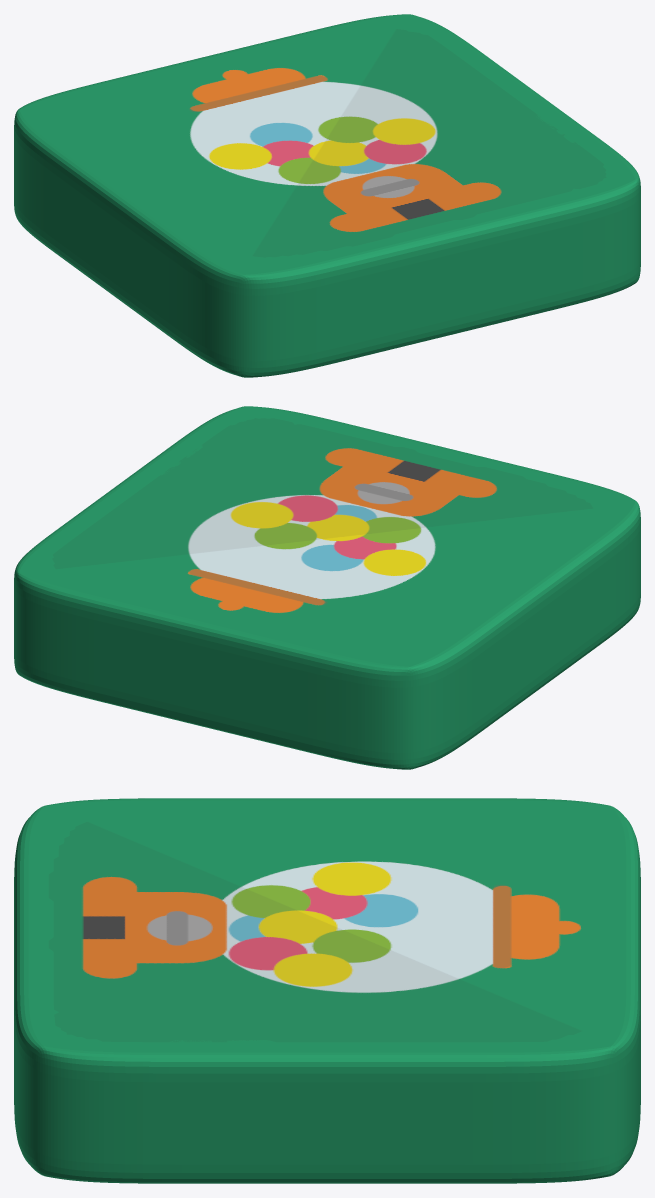
Rendered from BubbleGum_Machine.fbx.
3 renders of one model, top to bottom at view 1: azimuth 30°, elevation 25°; view 2: azimuth 150°, elevation 25°; view 3: azimuth 270°, elevation 25°, orthographic. The views are drawn at different scales.
Visible parts, largest first — view 1: Plane; view 2: Plane; view 3: Plane.
Part boxes in pixels (x1,y1,x2,y2): Plane: (14, 14, 640, 377); Plane: (14, 406, 640, 769); Plane: (14, 798, 640, 1183).
Size of the model in its own units: 200 by 45.4 by 200.
